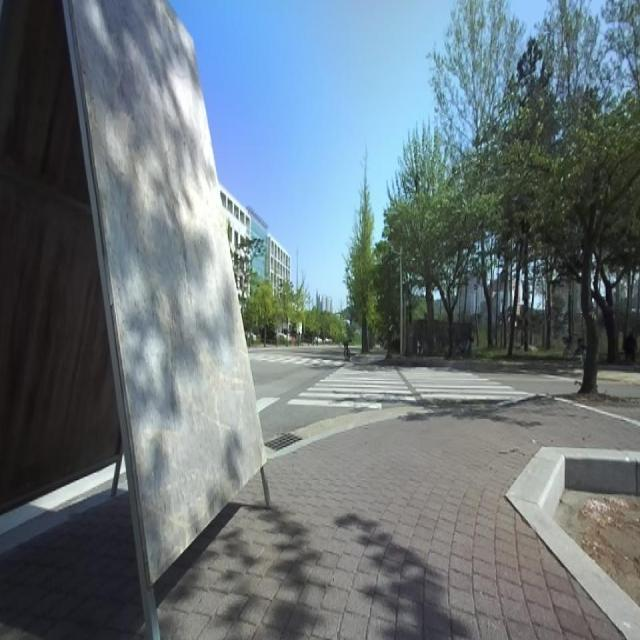sidewalk: (156, 398, 640, 639), (0, 494, 143, 639)
